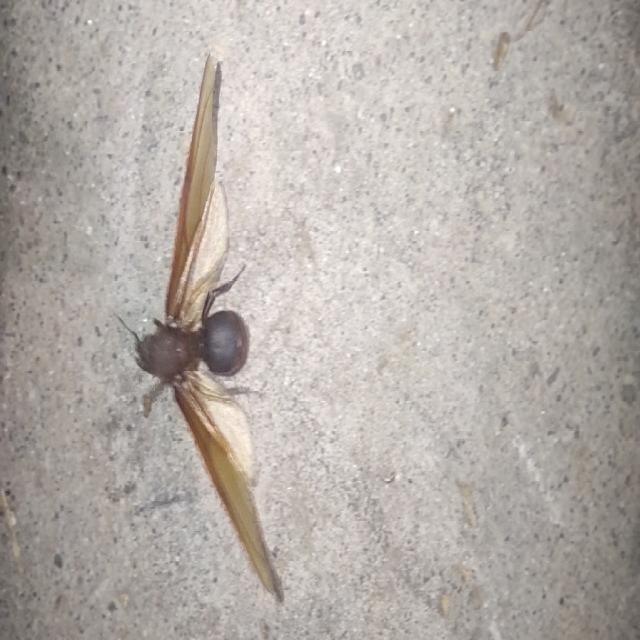Alive-Female-Alate: (113, 52, 285, 602)
